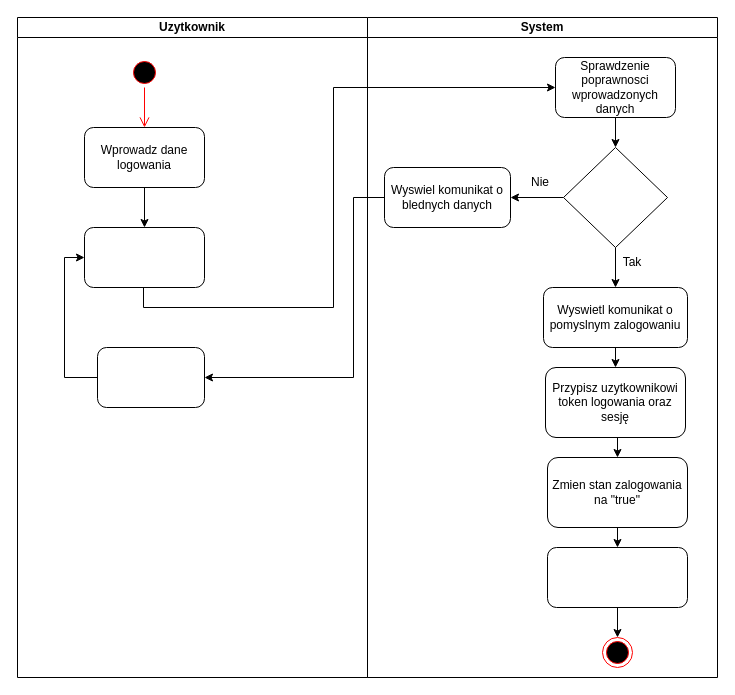
Some shapes in this 735 by 695 pixel diagram are drawn without their labels. The shapes that lost their labels are listed below. From the top down, each one's centre as x and y in pixels, then its label:
[615,197]: Czy dane są poprawne?
[144,257]: Kliknij przycisk "Zaloguj się"
[150,377]: Popraw błedne dane
[617,577]: Przekieruj uzytkownika na strone głowną
